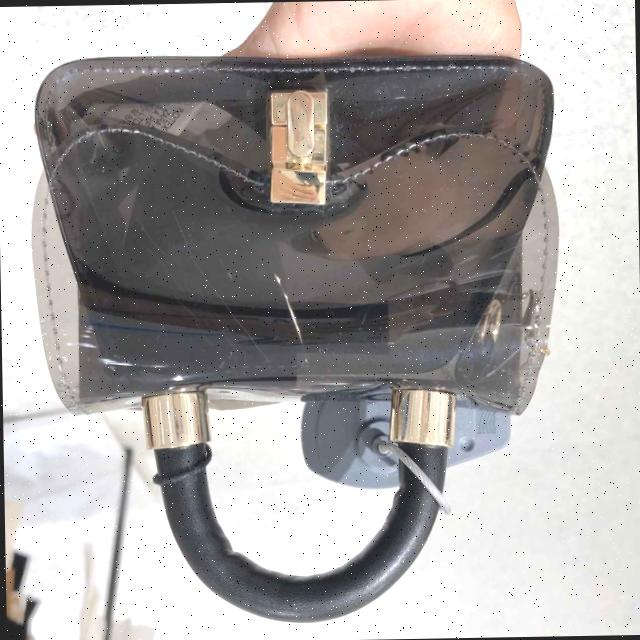Handbag: (22, 36, 563, 496)
